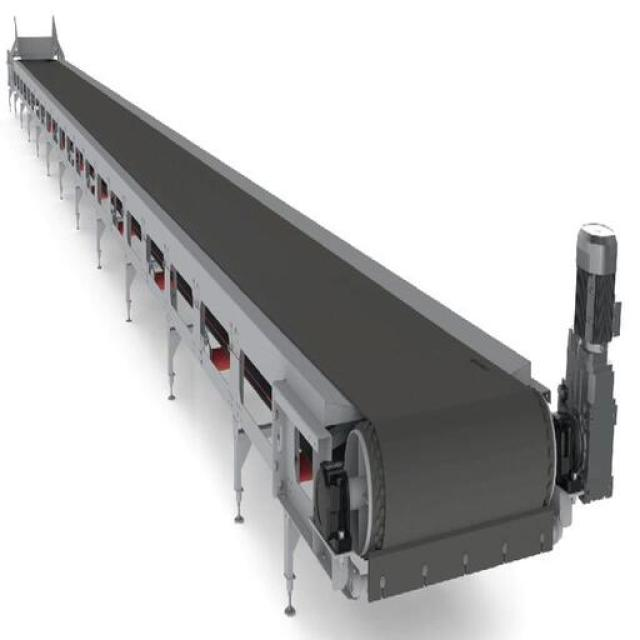conveyor: (1, 11, 621, 616)
